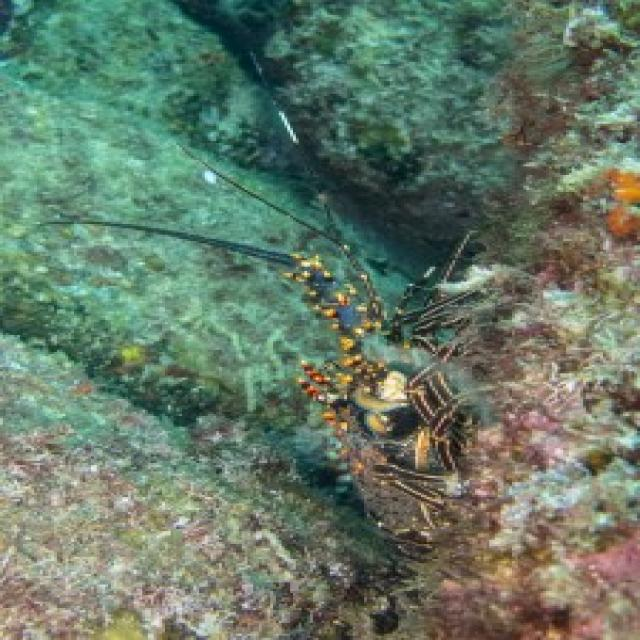lobsters: (278, 246, 492, 557)
